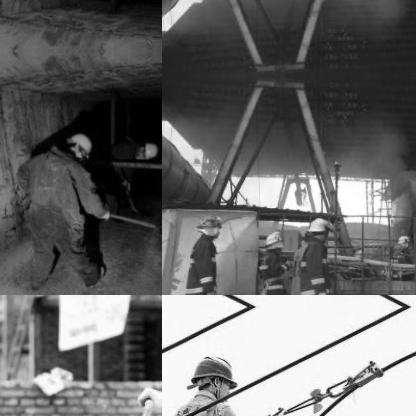Helmet: (182, 348, 238, 404), (64, 130, 90, 158), (194, 213, 224, 235), (304, 214, 329, 240), (128, 139, 158, 158), (259, 230, 283, 252)
